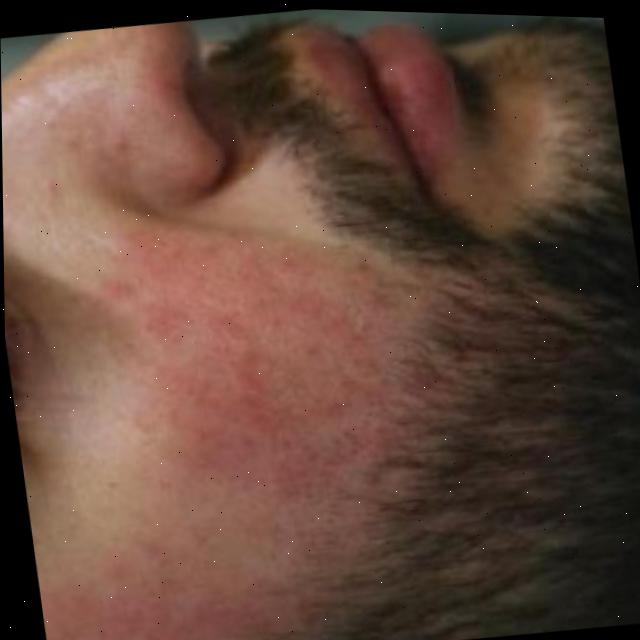Rosacea: (70, 182, 452, 537), (31, 504, 345, 640)
